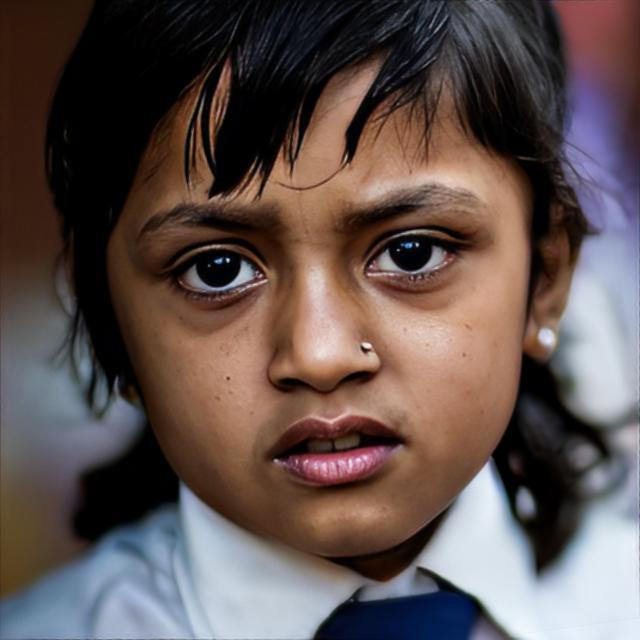disgust: (105, 44, 528, 560)
